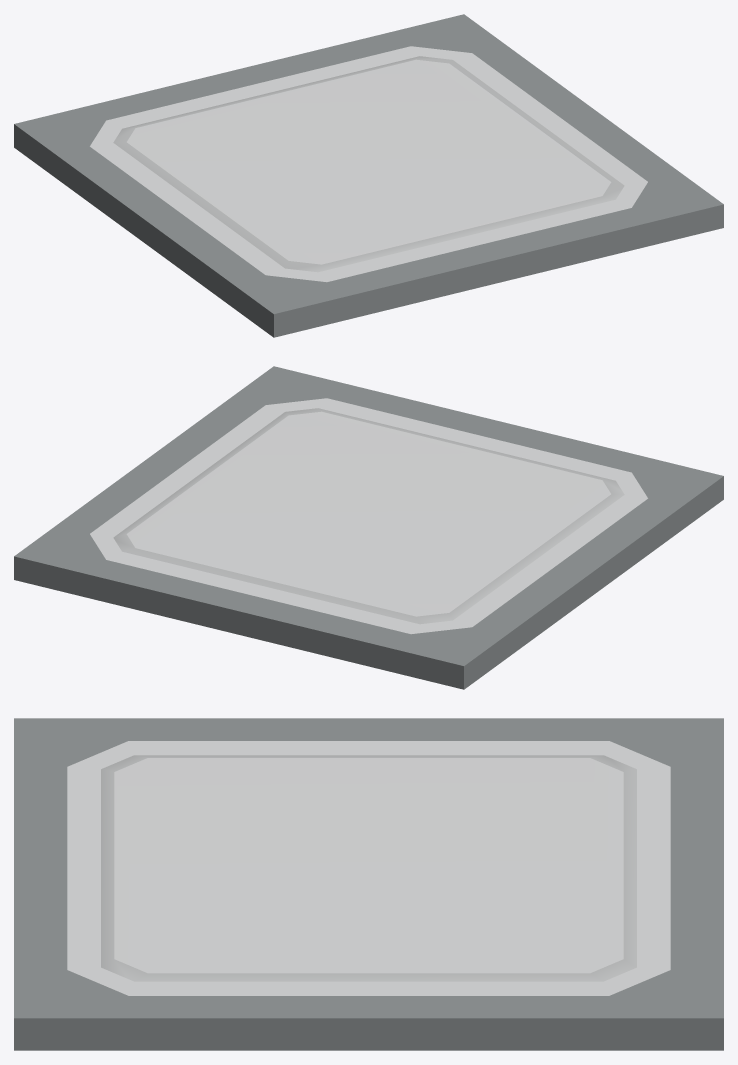
The model's file is Platform_002.glb.
3 renders of one model, top to bottom at view 1: azimuth 30°, elevation 25°; view 2: azimuth 150°, elevation 25°; view 3: azimuth 270°, elevation 25°, orthographic. The views are drawn at different scales.
Parts seen in each view (by area): view 1: Platform_002; view 2: Platform_002; view 3: Platform_002.
Part boxes in pixels (x1,y1,x2,y2): Platform_002: (14,14,723,337); Platform_002: (14,366,723,689); Platform_002: (14,718,723,1050).
Bounding box in the file's own units: 4 × 0.2345 × 4.
Materials: 1 (1 with a texture image).
